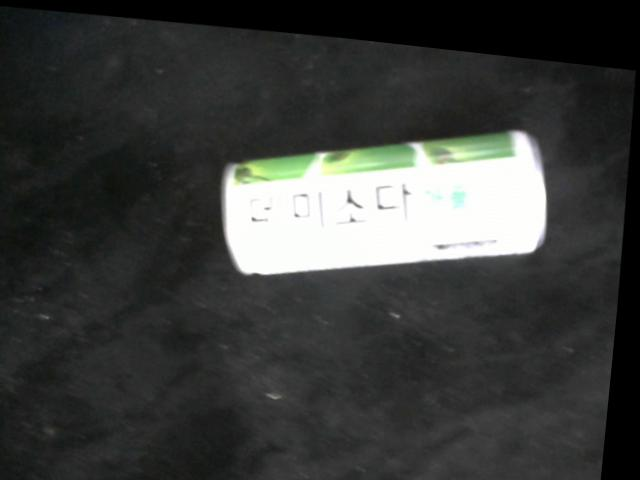can: (221, 114, 551, 272)
